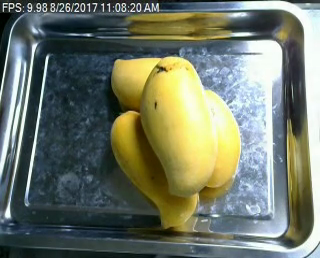Mango: (137, 54, 219, 196), (112, 110, 200, 231), (196, 84, 244, 186), (110, 48, 168, 104)
